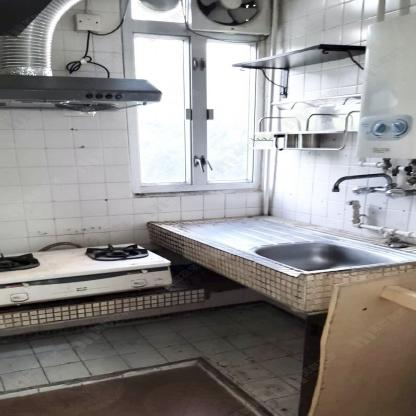Exhaust Fan: (189, 0, 275, 36)
Exhaust Hood: (0, 0, 160, 117)
Faucet: (313, 169, 405, 199)
Sink: (175, 216, 415, 273)
Stove: (0, 241, 173, 304)
